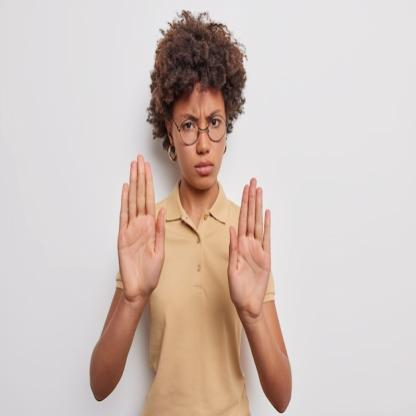stop: (116, 151, 168, 303), (226, 174, 274, 320)
